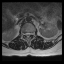CCS_normal: (27, 31, 28, 38)
LFS_normal: (30, 31, 32, 36)
LLS_normal: (28, 31, 30, 37)
RFS_normal: (23, 31, 25, 36)
RLS_normal: (25, 31, 27, 37)
